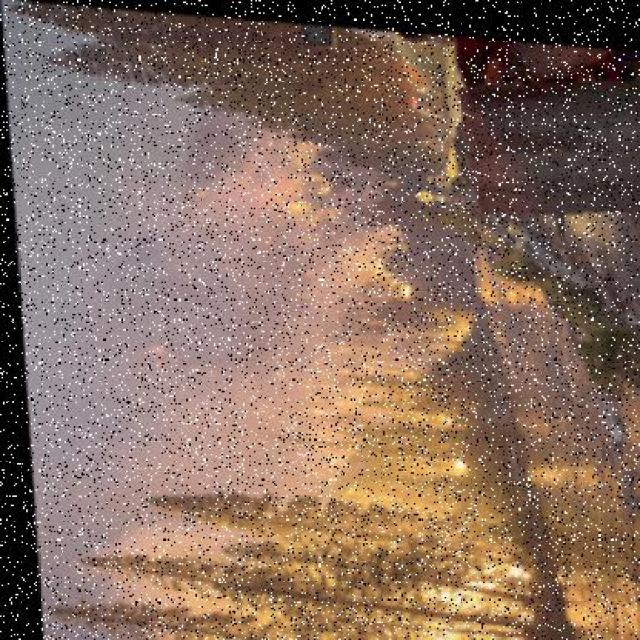fire: (152, 123, 518, 640)
